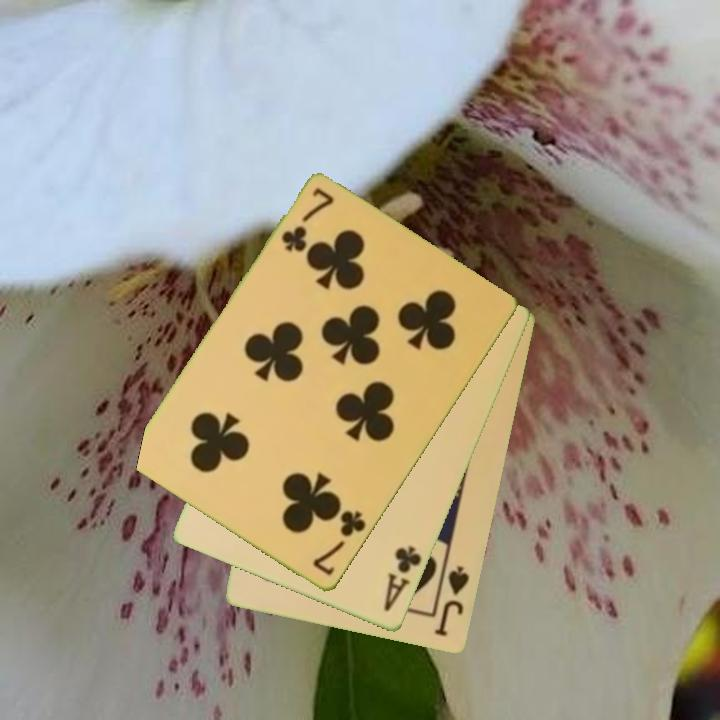7c: (309, 507, 369, 579), (277, 184, 337, 256)
Ac: (380, 542, 425, 616)
Js: (431, 563, 473, 640)
